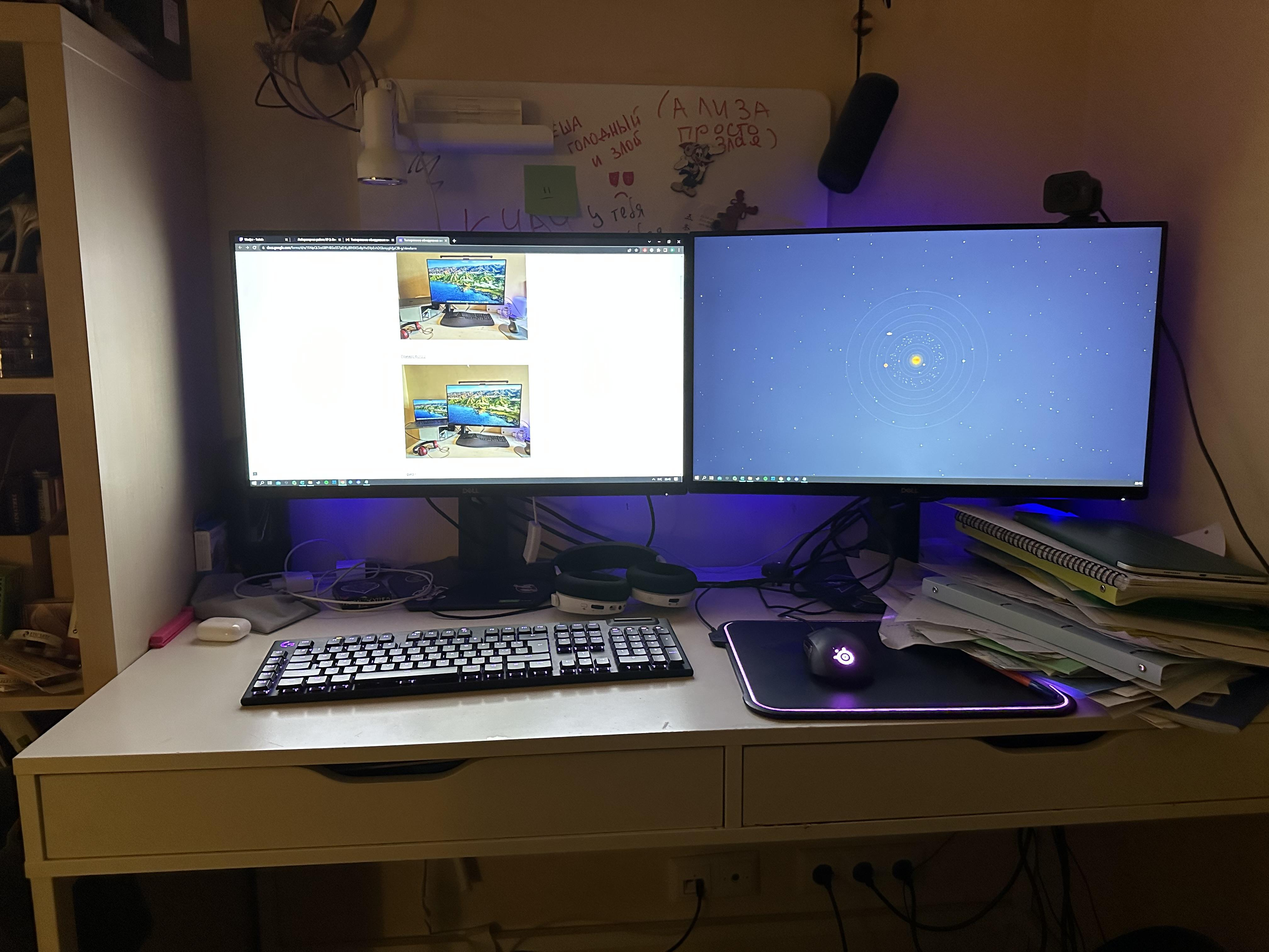monitor: (220, 224, 699, 608), (663, 217, 1177, 573)
